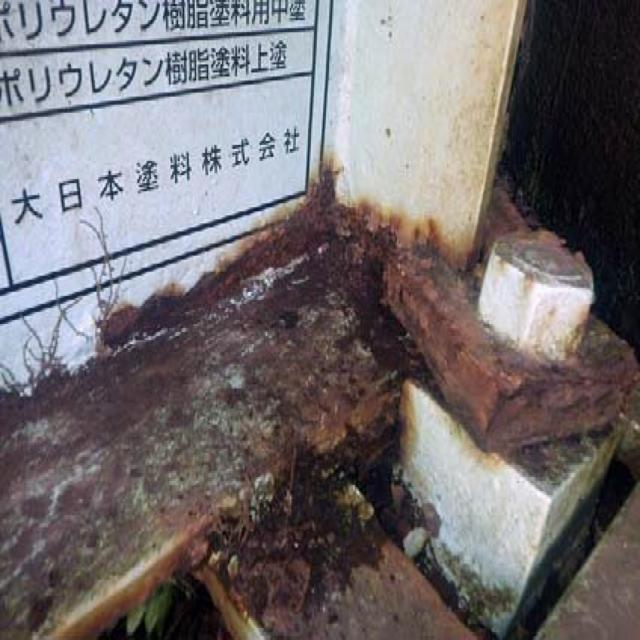corrosion: (10, 216, 627, 621)
